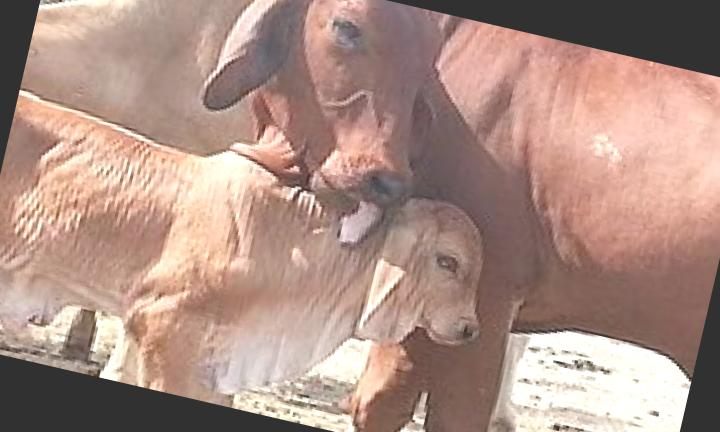Brahman: (204, 0, 720, 432), (0, 93, 483, 407)
